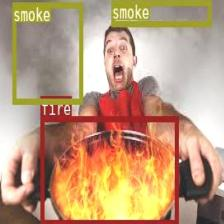fire: (40, 115, 177, 224)
smoke: (12, 2, 82, 103), (110, 0, 210, 25)
